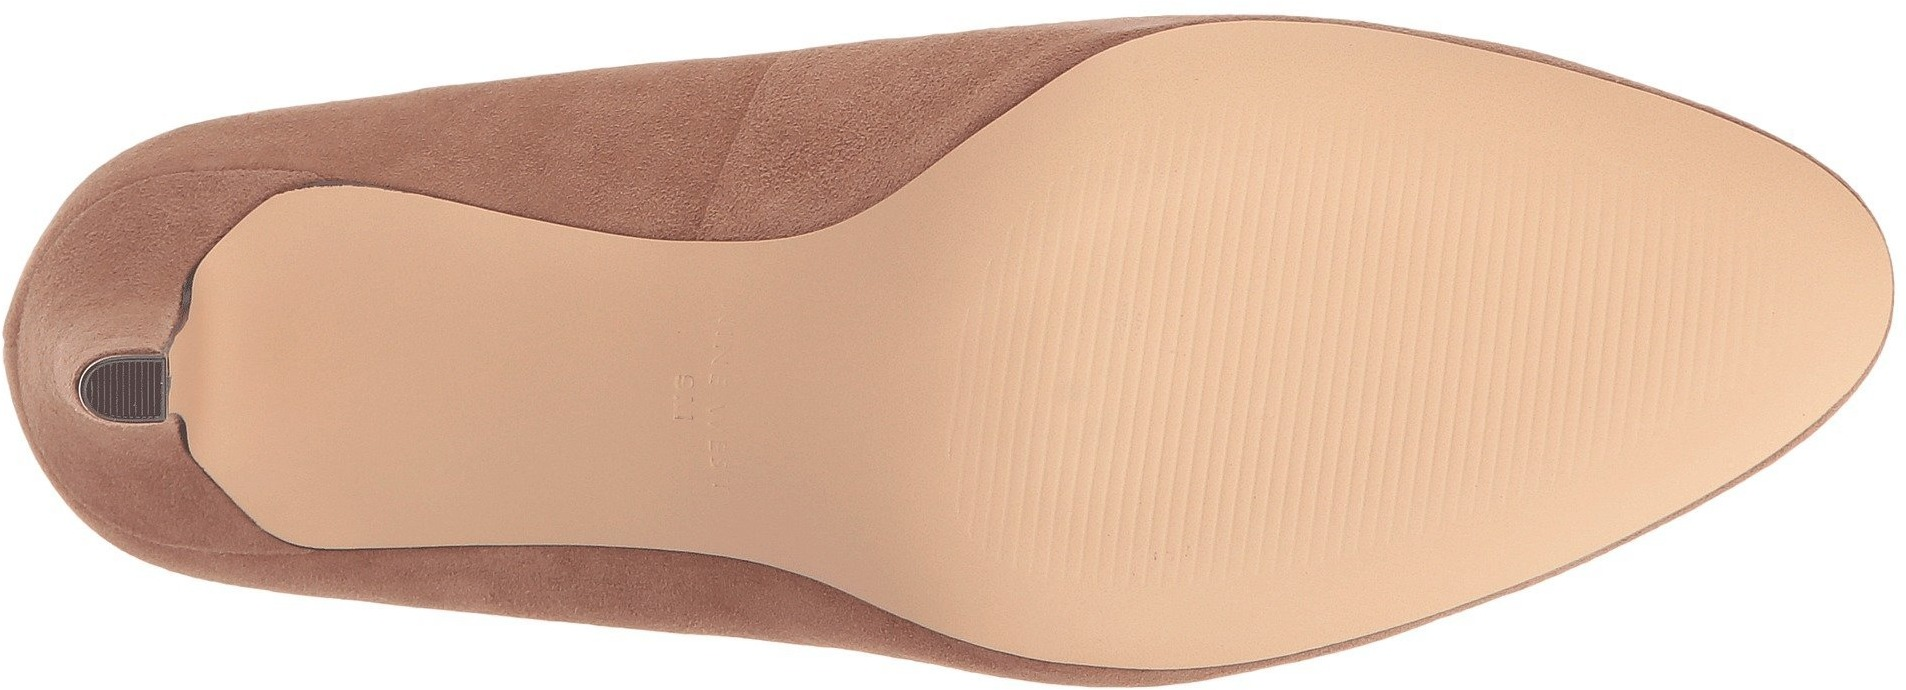other: (1208, 149, 1437, 347), (1444, 193, 1653, 397), (1010, 222, 1213, 430), (1220, 355, 1415, 538), (102, 362, 158, 417)
